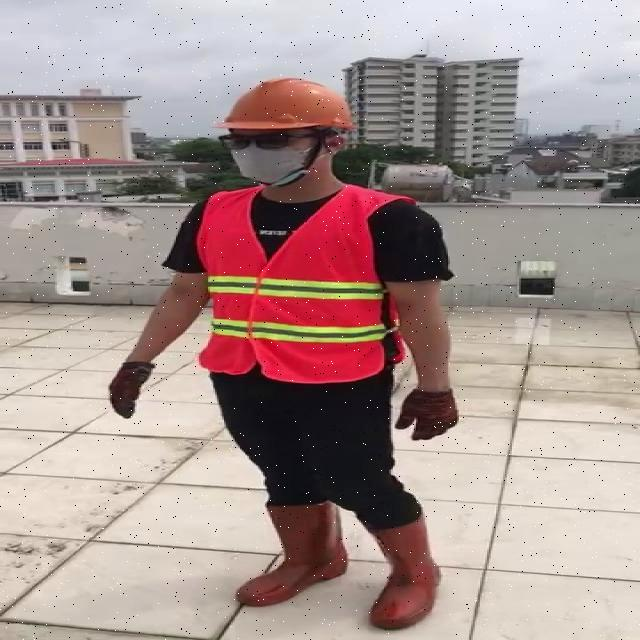Hard_hat: (212, 72, 364, 145)
Vest: (201, 182, 386, 386)
